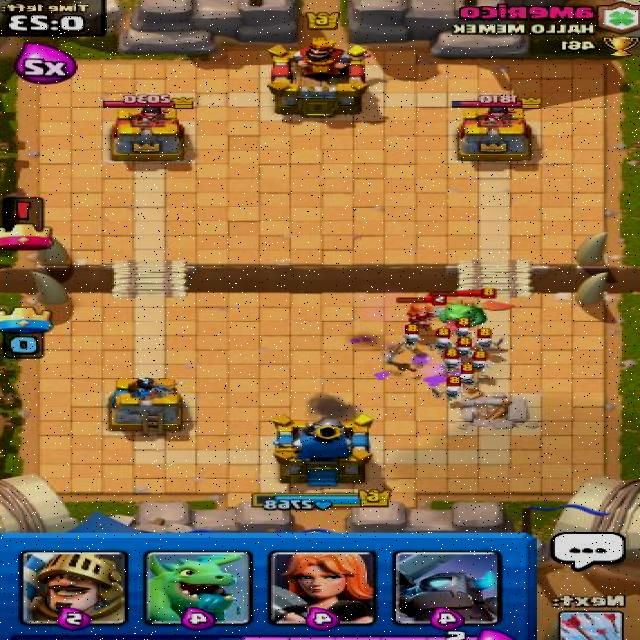Enemy-BabyDragon: (428, 286, 516, 330)
Enemy-Skeleton: (426, 375, 466, 404), (450, 361, 485, 388), (470, 327, 504, 353), (398, 322, 428, 351), (427, 327, 459, 353), (463, 349, 493, 376), (450, 337, 479, 363), (438, 346, 464, 372), (450, 317, 477, 339)
Enemy-Valkyrie: (394, 292, 448, 329)
